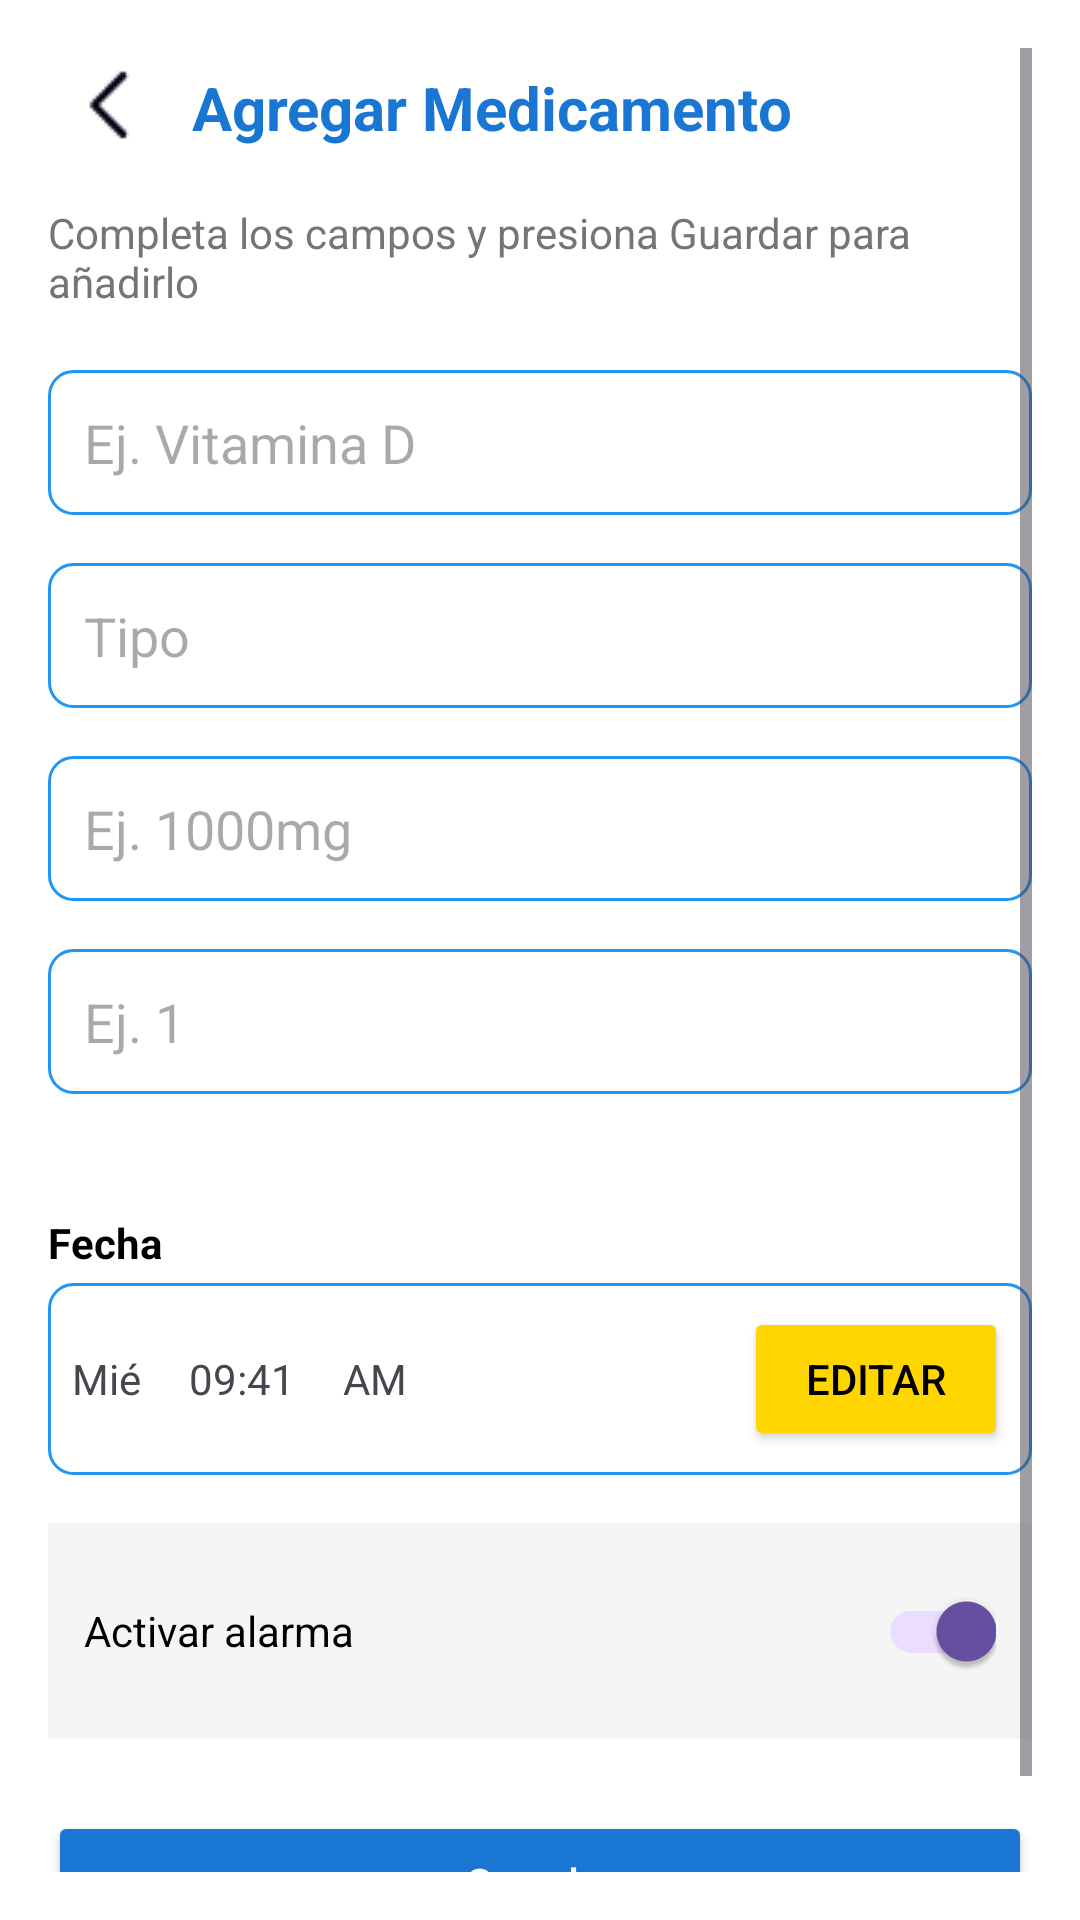

Where icons sit on this 1080w x 1920h app screen, as (x1=x1, y1=y1, x2=x2, y2=y2):
Volver: (x1=89, y1=71, x2=129, y2=139)
